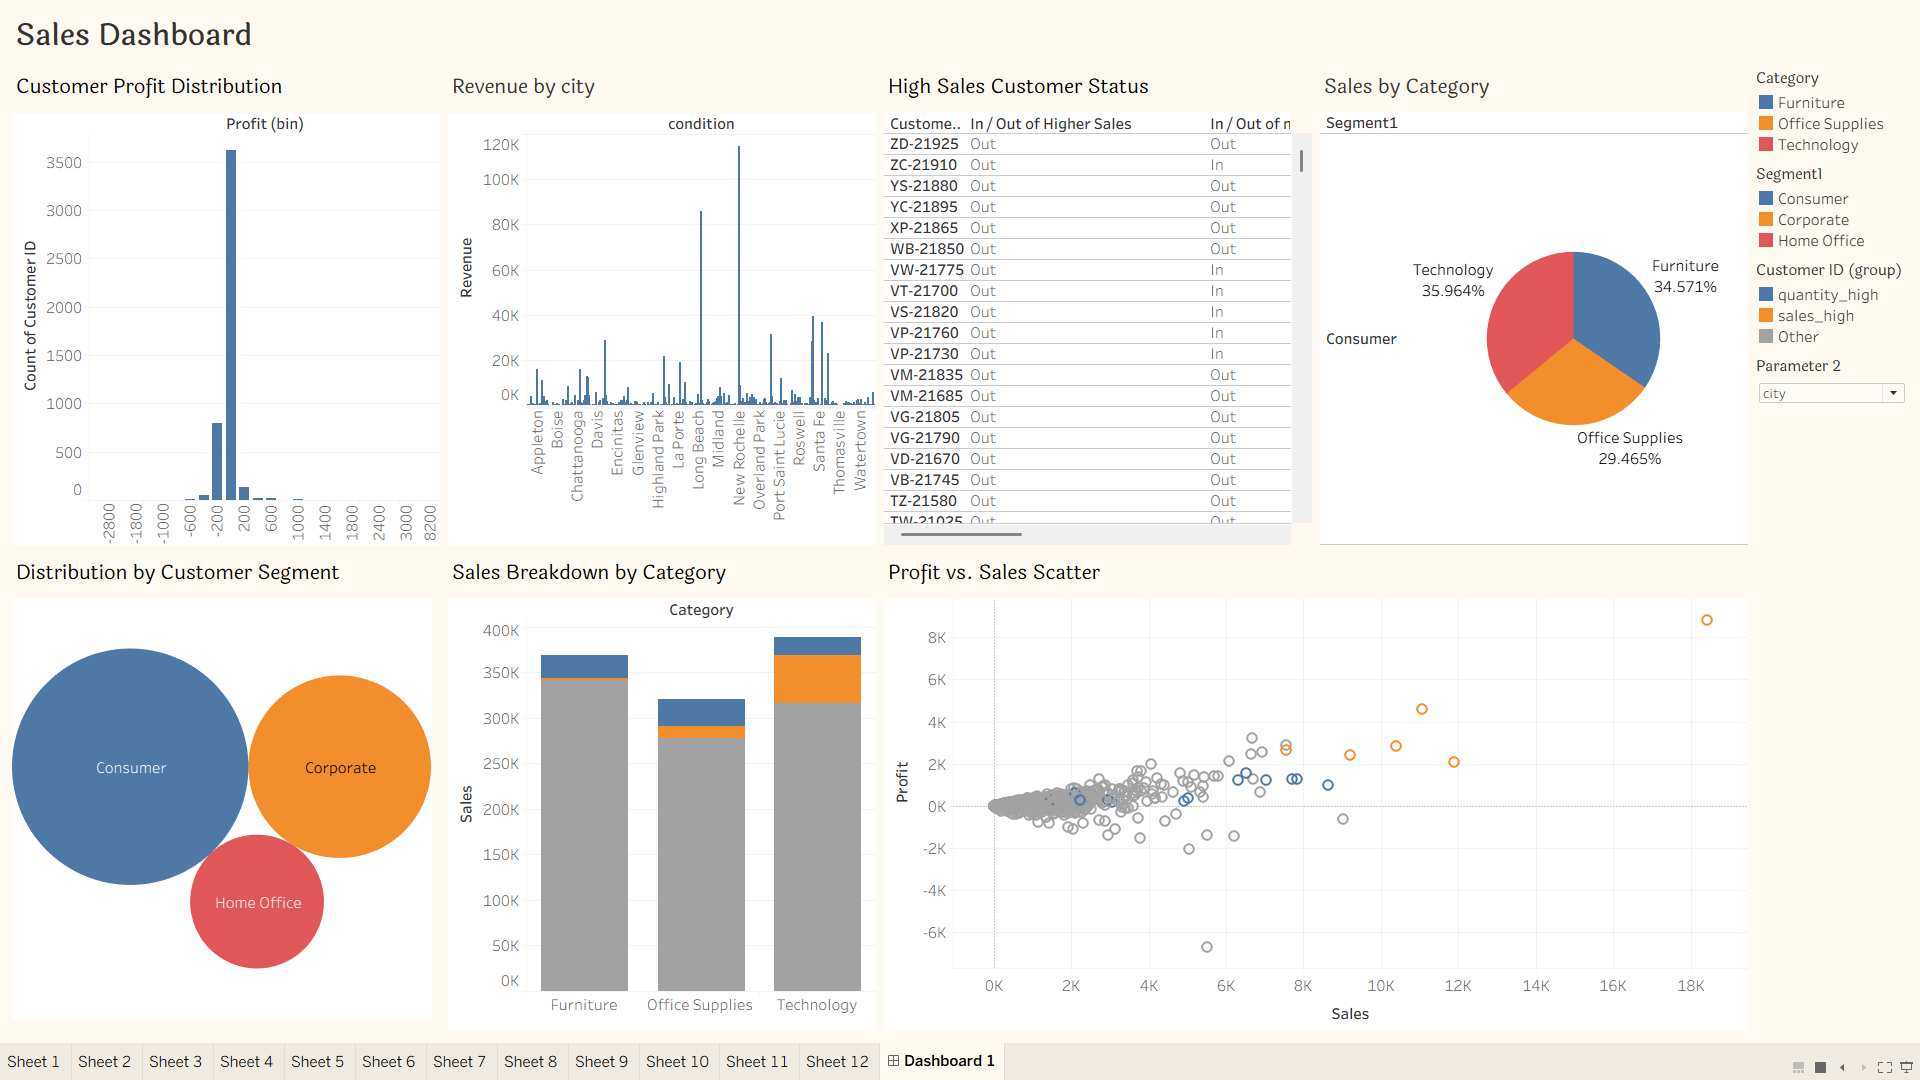

What the dashboard file says about the page in this screenshot:
{"tool":"tableau","page":{"name":"Dashboard 1","canvas":[1000,1000],"units":"permille","ordinal":0},"visuals":[{"type":"title","box":[4.8,9.4,990.3,64.6]},{"type":"worksheet","title":"Sheet 5","mark":"Automatic","rows":["Customer ID"],"cols":["Profit (bin)"],"box":[4.8,74,223.4,458.3]},{"type":"worksheet","title":"Sheet 12","mark":"Automatic","rows":["Calculation_0753764089180160"],"cols":["Calculation_0753764094930949"],"box":[228.2,74,223.5,458.3]},{"type":"worksheet","title":"Sheet 6","mark":"Automatic","rows":["Customer ID","Set 1","Set 2","Set 3"],"box":[451.7,74,223.4,458.3]},{"type":"worksheet","title":"Sheet 1","mark":"Pie","rows":["Segment"],"box":[675.1,74,223.5,458.3]},{"type":"legend","title":"Sheet 1","param":"[federated.1pm997f0bdcrik1d27xmf17fj7f9].[none:Category:nk]","box":[898.6,74,96.6,112.8]},{"type":"legend","title":"Sheet 2","param":"[federated.1pm997f0bdcrik1d27xmf17fj7f9].[none:Segment:nk]","box":[898.6,186.8,96.6,112.8]},{"type":"legend","title":"Sheet 3","param":"[federated.1pm997f0bdcrik1d27xmf17fj7f9].[Customer ID (group)]","box":[898.6,299.7,96.6,112.8]},{"type":"parameter","param":"[Parameters].[Parameter 0753764094349316]","box":[898.6,412.5,96.6,69.3]},{"type":"worksheet","title":"Sheet 2","mark":"Circle","box":[4.8,532.3,223.4,458.3]},{"type":"worksheet","title":"Sheet 4","mark":"Automatic","rows":["Sales"],"cols":["Category"],"box":[228.2,532.3,223.5,458.3]},{"type":"worksheet","title":"Sheet 3","mark":"Automatic","rows":["Profit"],"cols":["Sales"],"box":[451.7,532.3,446.9,458.3]}]}

Visuals, with their boxes on the dashboard's canvas, which has no fixed pixel size, in thousandths of its width and height (x1, y1, x2, y2). These are canvas units, not pixel positions in the 1920x1080 screenshot, which may show the page scaled, cropped or inside an application window:
title: bbox=[5, 9, 995, 74]
"Sheet 5" worksheet: bbox=[5, 74, 228, 532]
"Sheet 12" worksheet: bbox=[228, 74, 452, 532]
"Sheet 6" worksheet: bbox=[452, 74, 675, 532]
"Sheet 1" worksheet (Pie marks): bbox=[675, 74, 899, 532]
"Sheet 1" legend: bbox=[899, 74, 995, 187]
"Sheet 2" legend: bbox=[899, 187, 995, 300]
"Sheet 3" legend: bbox=[899, 300, 995, 412]
parameter: bbox=[899, 412, 995, 482]
"Sheet 2" worksheet (Circle marks): bbox=[5, 532, 228, 991]
"Sheet 4" worksheet: bbox=[228, 532, 452, 991]
"Sheet 3" worksheet: bbox=[452, 532, 899, 991]
